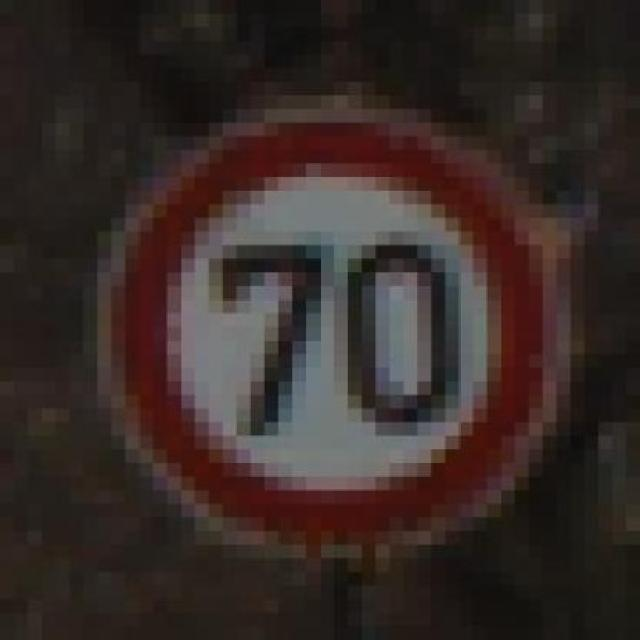forb_speed_over_70: (110, 110, 547, 545)
